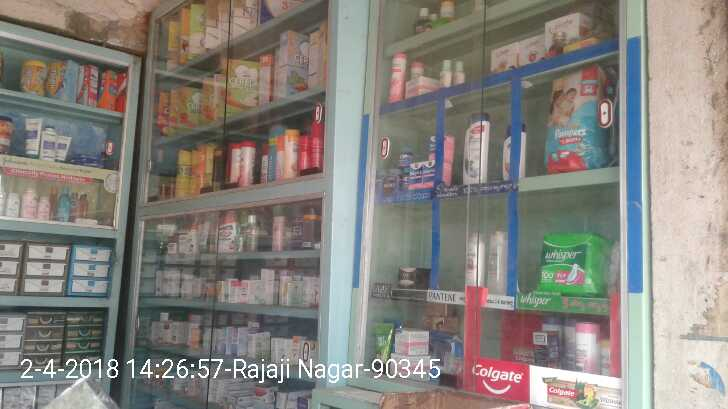vicks: (413, 135, 454, 188), (377, 145, 413, 188)
